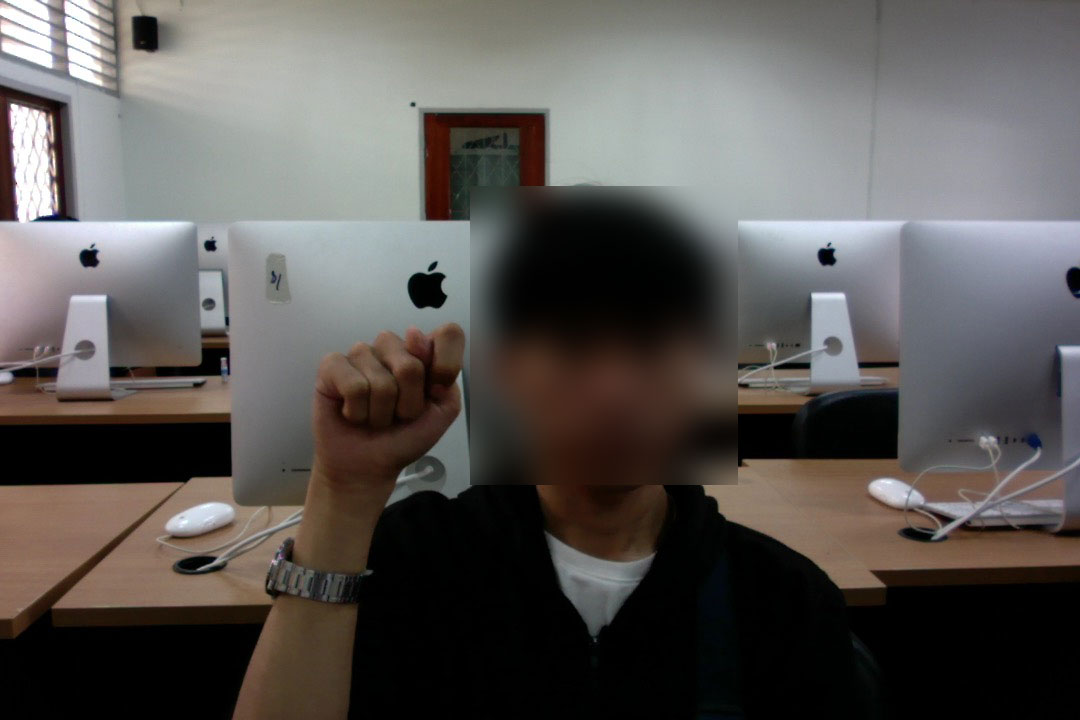tor: (303, 324, 468, 493)
